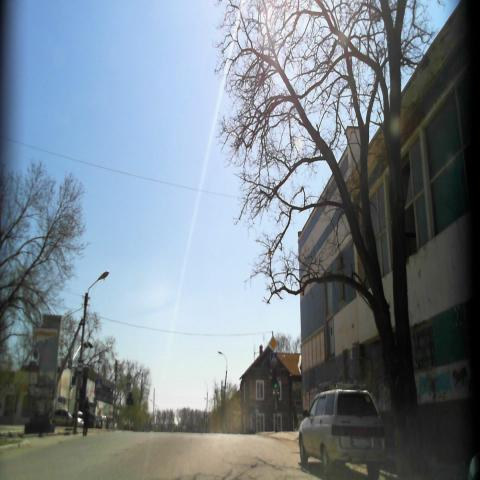2_1: (269, 336, 277, 349)
5_16: (77, 359, 83, 374)
5_19_1: (270, 351, 278, 366), (97, 378, 102, 390)
